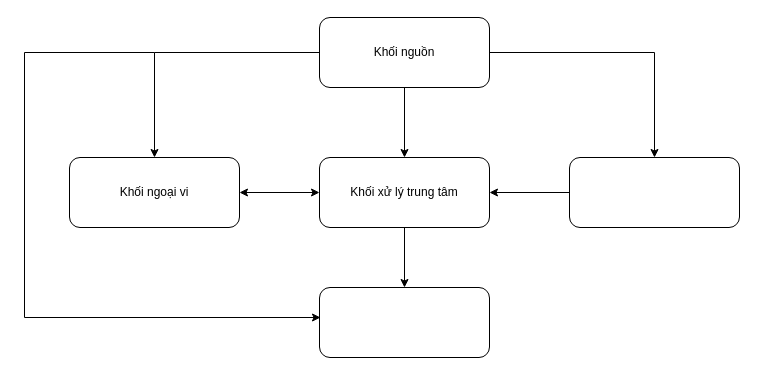
The diagram is 757 pixels wide and 375 high, and some of its shapes have lost their labels. The shapes that lost their labels are listed below. From the top down, each one's centre as x and y in pixels, then its label:
At point (654, 192): "Khối camera".
At point (404, 322): "Khối chấp hành".
